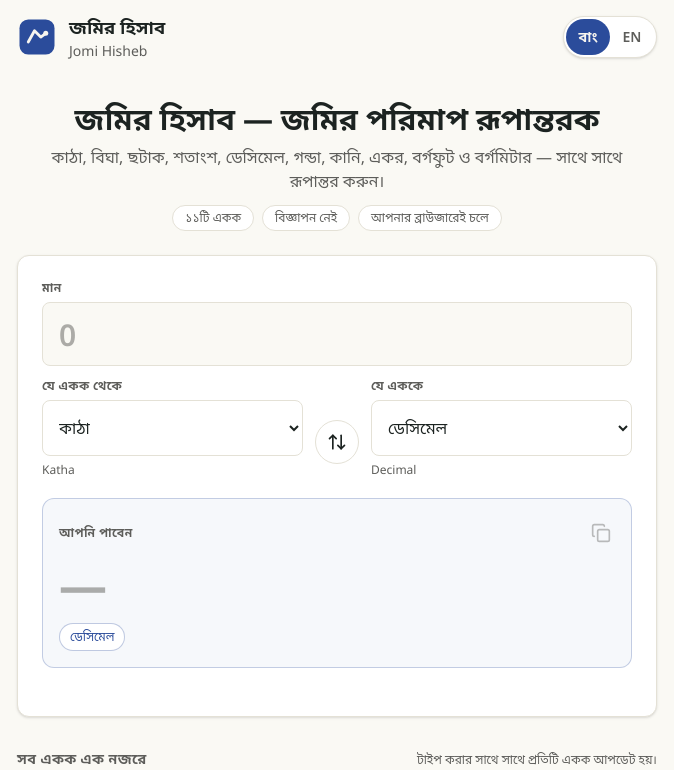
Test: result value size ladder (production overflow bug) › very long values keep stepping down instead of wrapping
Type "3141592653" into the field labelled "মান".
click(337, 334); type("3141592653")  # box [42,302,632,366]
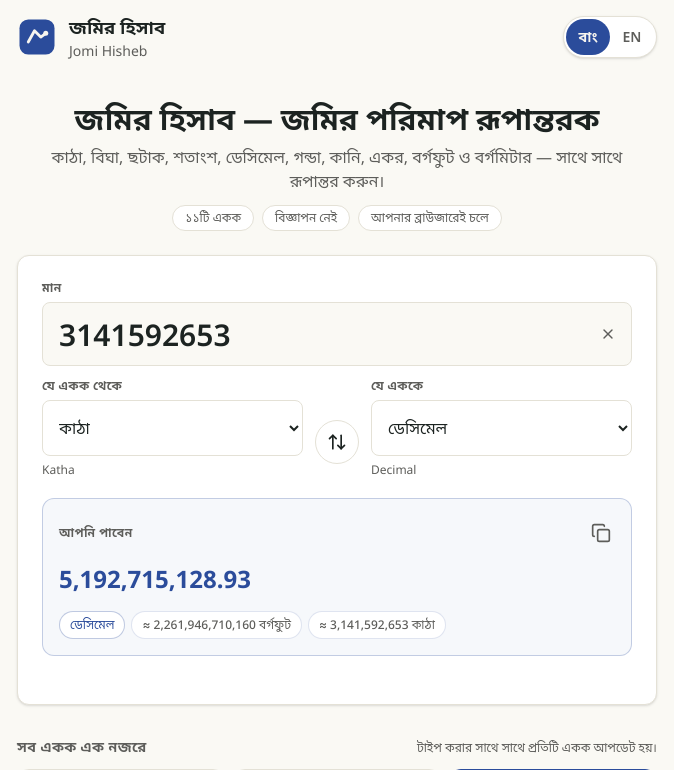
Check: the text "5,192,715,128.93" below "আপনি পাবেন" is shown, box [59,562,251,595]
Replace the text in the field labelled "মান" with "1000000000000" at x=337, y=334, box [42,302,632,366]
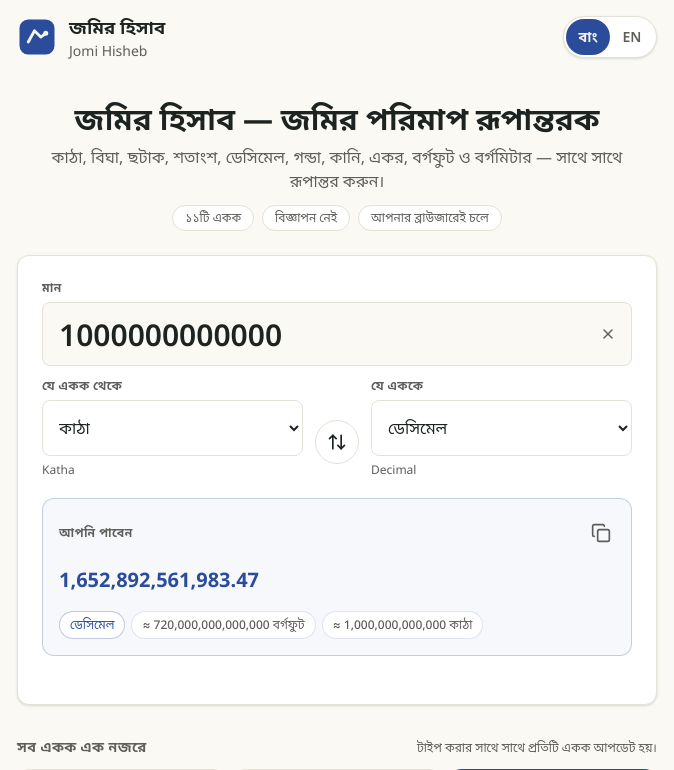
Check: the text "1,652,892,561,983.47" below "আপনি পাবেন" is shown, box [59,566,259,592]
